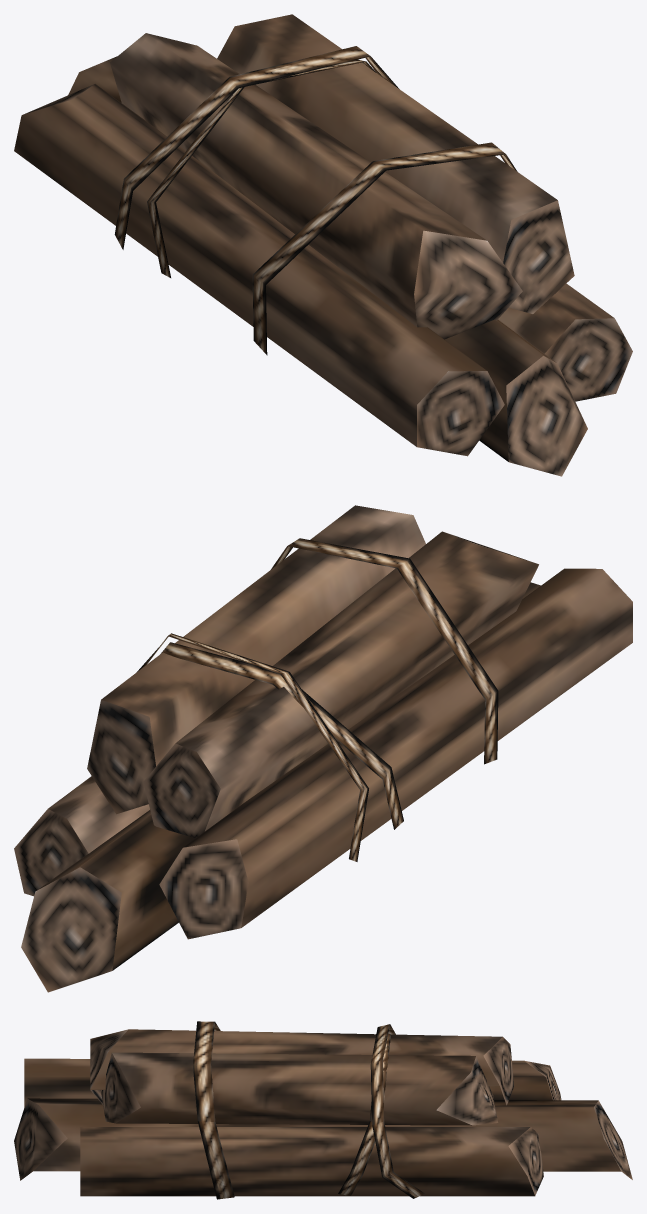
The model's file is PRP_WoodPile.FBX.
The picture shows the model from 3 angles, top to bottom: view 1: azimuth 30°, elevation 25°; view 2: azimuth 150°, elevation 25°; view 3: azimuth 270°, elevation 25°; orthographic projection. The views are drawn at different scales.
Visible parts, largest first — view 1: PRP_WoodPile; view 2: PRP_WoodPile; view 3: PRP_WoodPile.
Part boxes in pixels (left/top/right/bottom): PRP_WoodPile: left=14, top=14, right=632, bottom=476; PRP_WoodPile: left=14, top=505, right=632, bottom=992; PRP_WoodPile: left=14, top=1021, right=632, bottom=1199.
Size of the model in its own units: 82.1 by 61.89 by 238.
